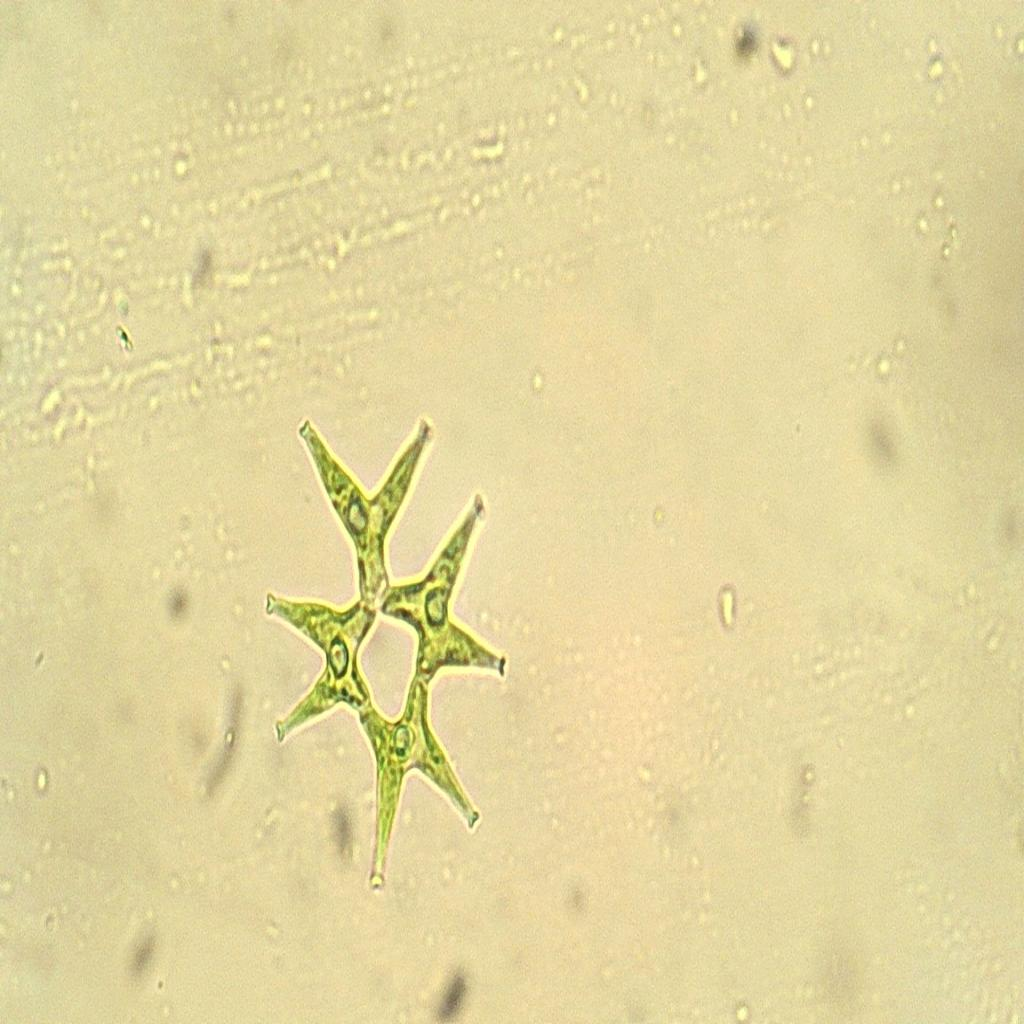Pediastrum_75FI: (260, 396, 518, 912)
